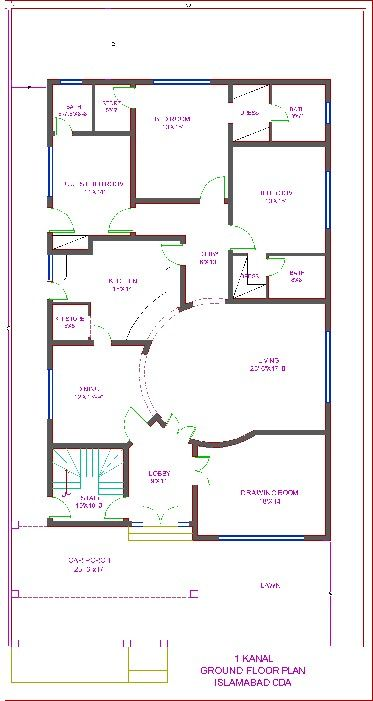door: (105, 208, 132, 234), (53, 206, 78, 234), (155, 243, 180, 271), (232, 225, 257, 253), (199, 174, 226, 199), (268, 257, 290, 280), (110, 86, 130, 110), (273, 101, 293, 125), (54, 116, 73, 132)
